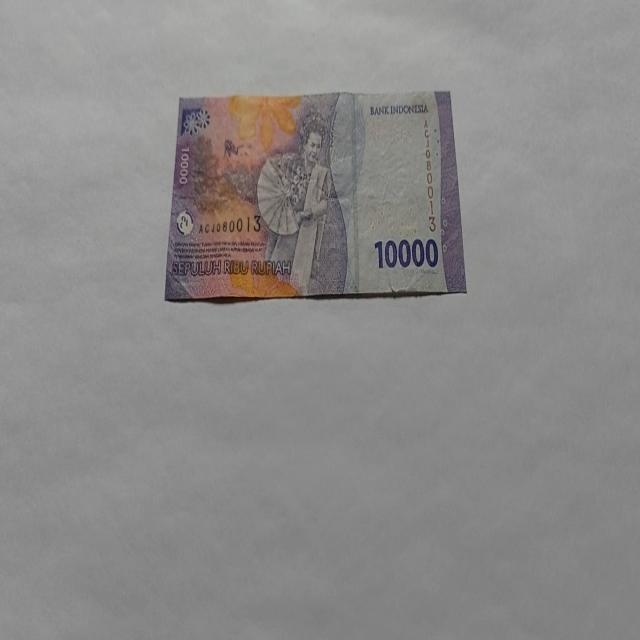sepuluh ribu rupiah: (163, 88, 467, 303)
